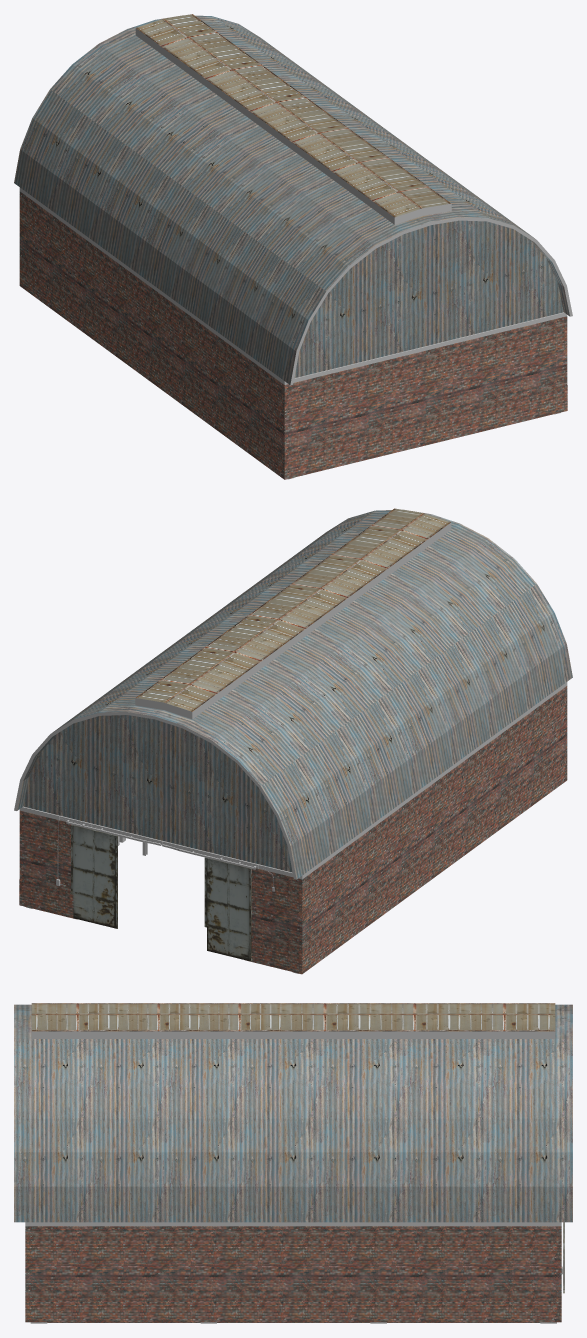
File: building_6.FBX
The picture shows the model from 3 angles, top to bottom: view 1: azimuth 30°, elevation 25°; view 2: azimuth 150°, elevation 25°; view 3: azimuth 270°, elevation 25°; orthographic projection.
Visible parts, largest first — view 1: Mesh Object; view 2: Mesh Object; view 3: Mesh Object.
Boxes of the visible parts, x1,y1,x2,y2 form: Mesh Object: (14, 14, 572, 479); Mesh Object: (14, 508, 572, 974); Mesh Object: (14, 1003, 572, 1323).
Bounding box in the file's own units: 12.55 × 10.26 × 21.23.
